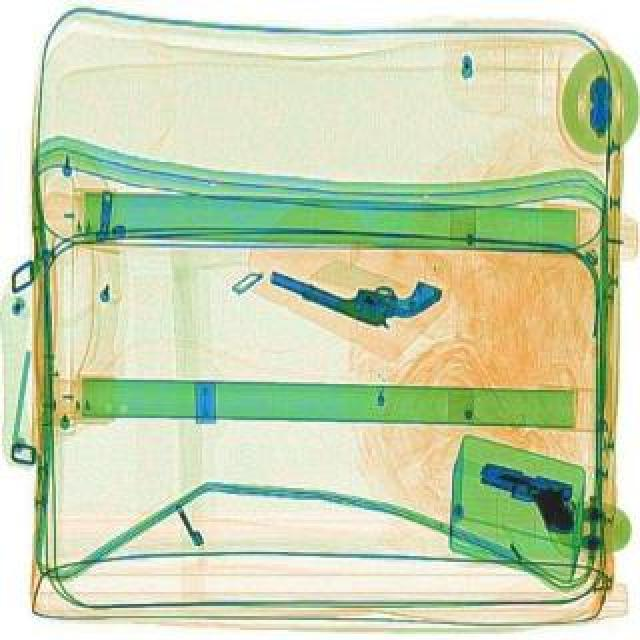gun: (260, 232, 448, 344), (468, 452, 588, 536)
